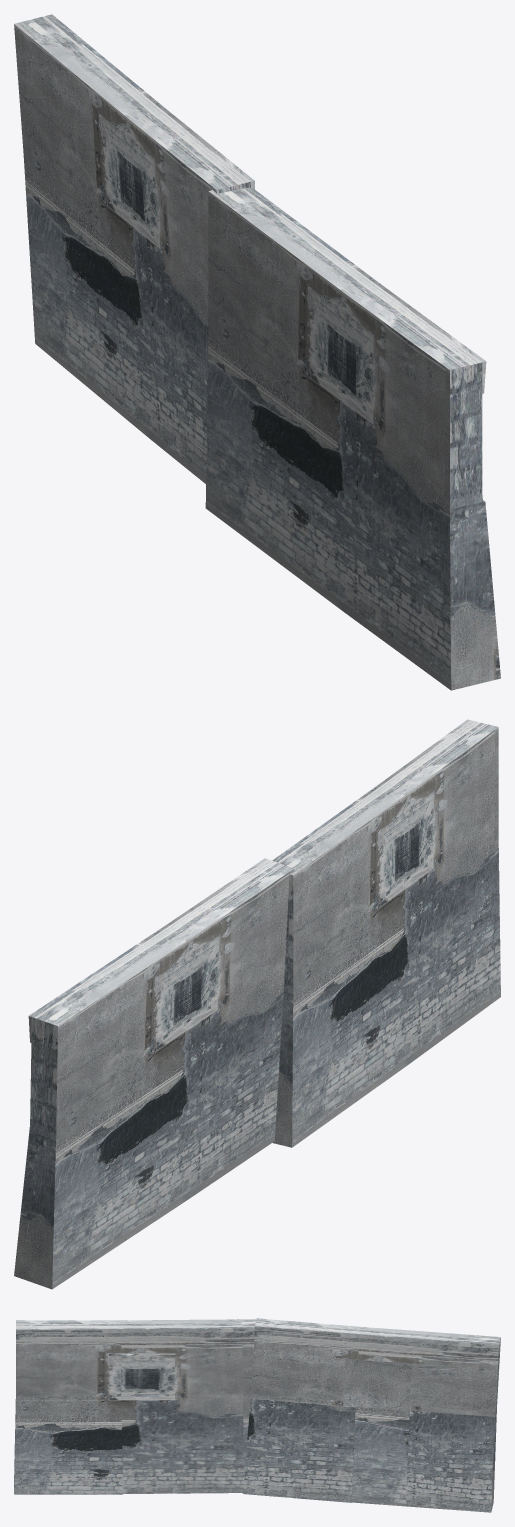
The model's file is WALL.fbx.
3 renders of one model, top to bottom at view 1: azimuth 30°, elevation 25°; view 2: azimuth 150°, elevation 25°; view 3: azimuth 270°, elevation 25°, orthographic. The views are drawn at different scales.
Visible parts, largest first — view 1: Cube, Cube.001; view 2: Cube.001, Cube; view 3: Cube.001, Cube.
Boxes of the visible parts, <box> form: Cube: <box>205,187,500,690</box>; Cube.001: <box>14,14,254,483</box>; Cube.001: <box>14,858,294,1289</box>; Cube: <box>272,719,500,1147</box>; Cube.001: <box>242,1318,500,1512</box>; Cube: <box>14,1319,256,1494</box>.
Size of the model in its own units: 644 by 2024 by 5187.
